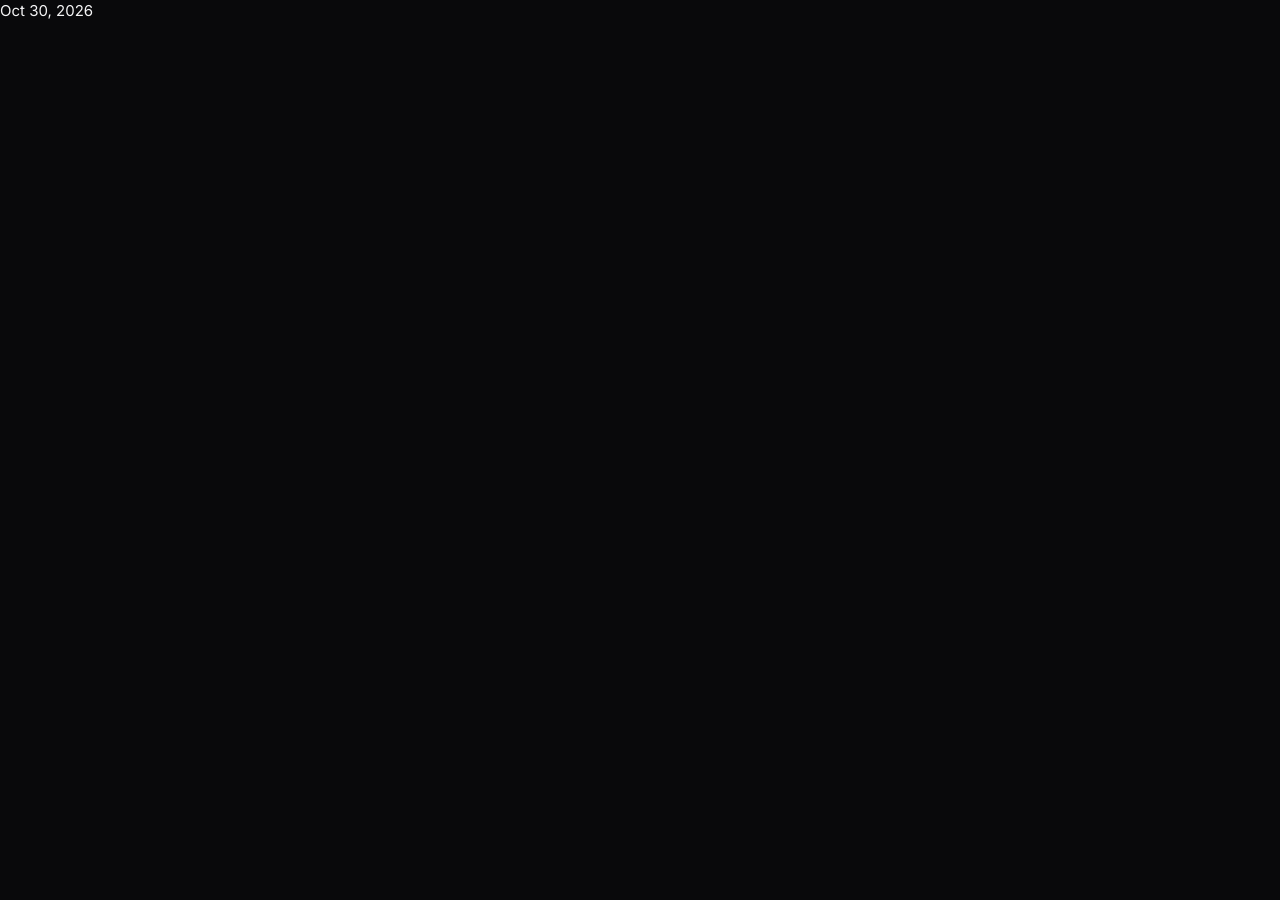
Scenario: DateCell typed dates (M32) › test an unreadable date keeps the picker open with a message
Click the button with aria-label "Edit Due" at (47, 10), box x1=0 y1=0 x2=1279 y2=22
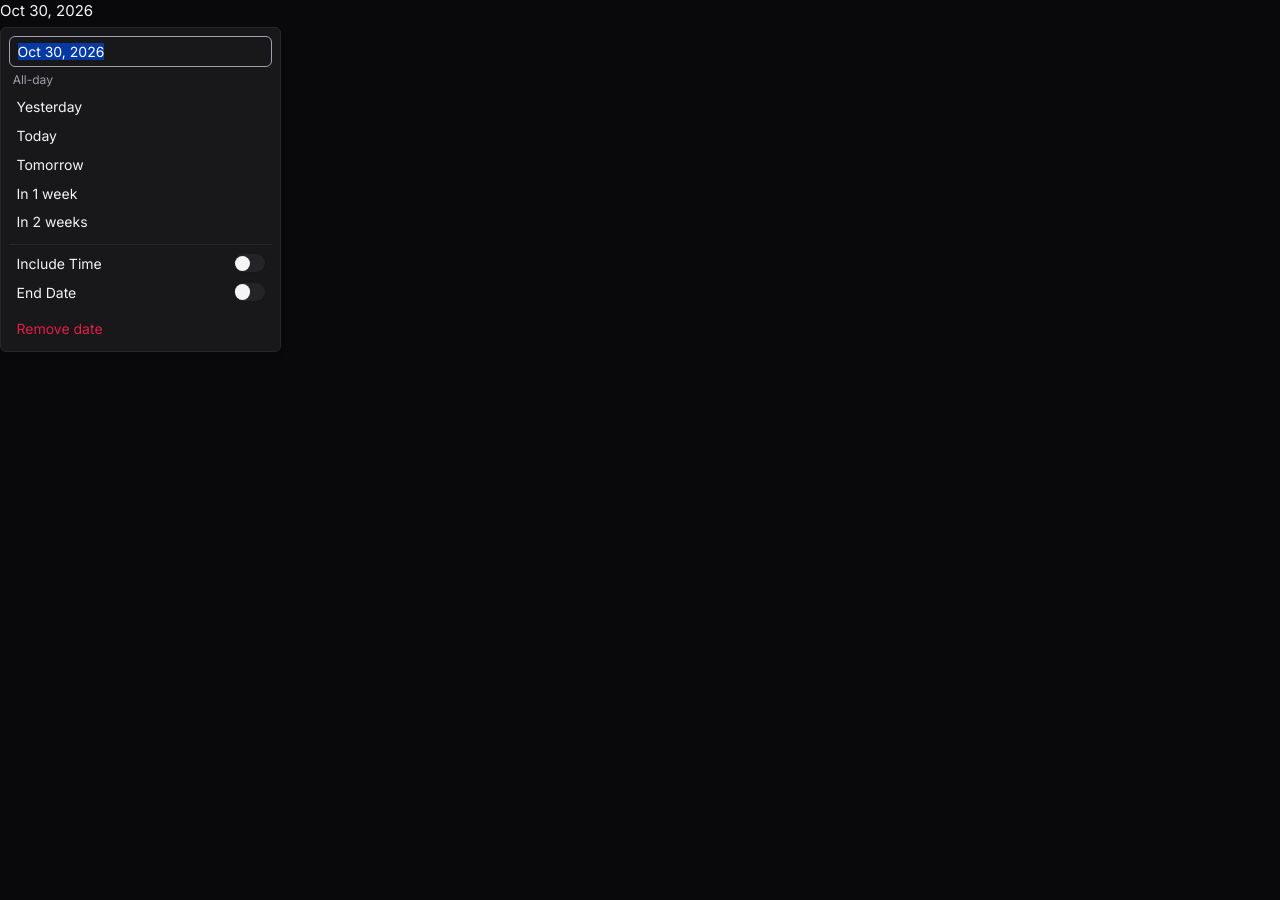
Replace the text in the field named "Starts" with "whenever" at (141, 51), box x1=9 y1=36 x2=272 y2=67
Then press Enter
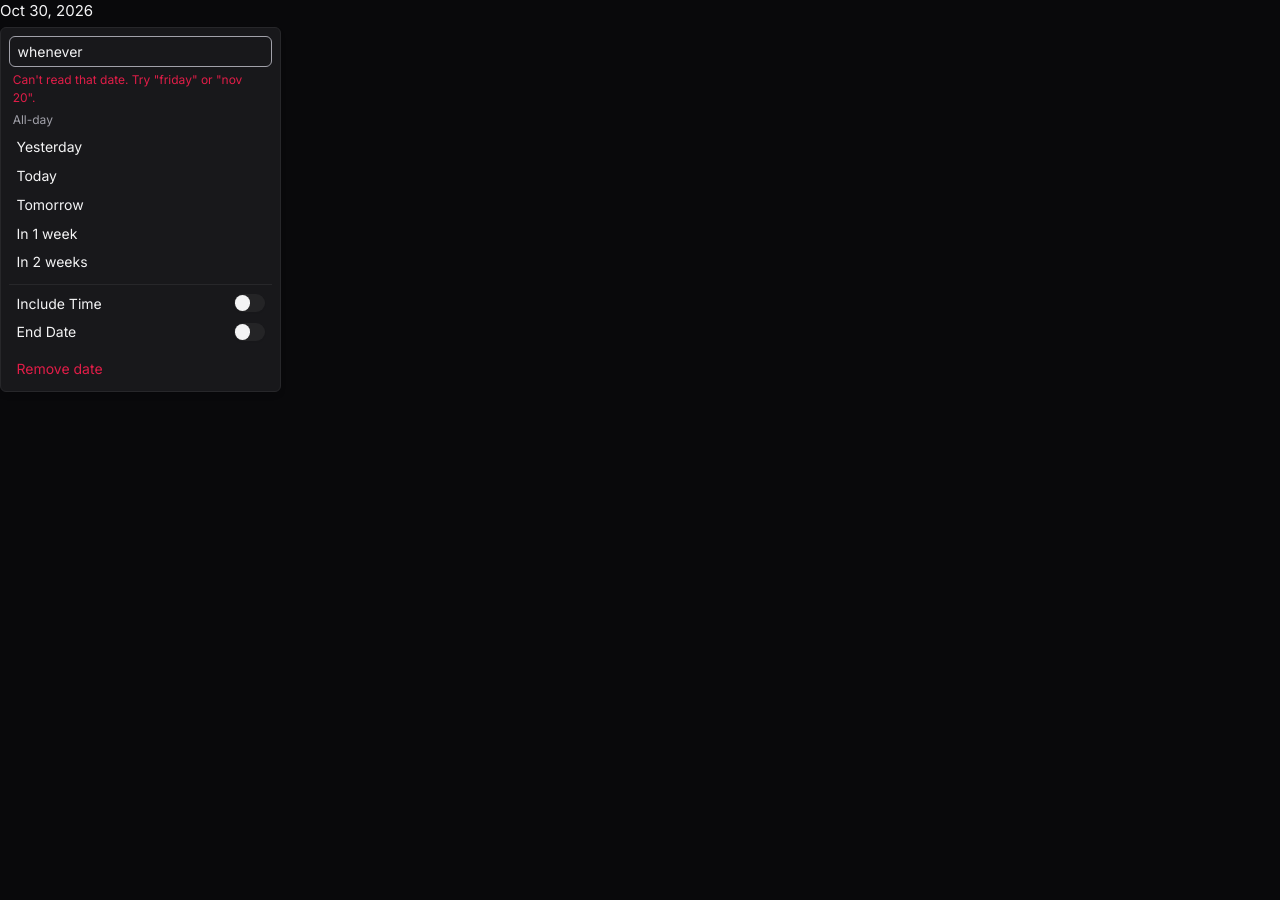
expect the element with test id "date-picker" is shown: met, box x1=1 y1=28 x2=280 y2=390
expect the message reads "Can't read that date. Try \"friday\" or \"nov 20\".": met, box x1=13 y1=72 x2=242 y2=105
